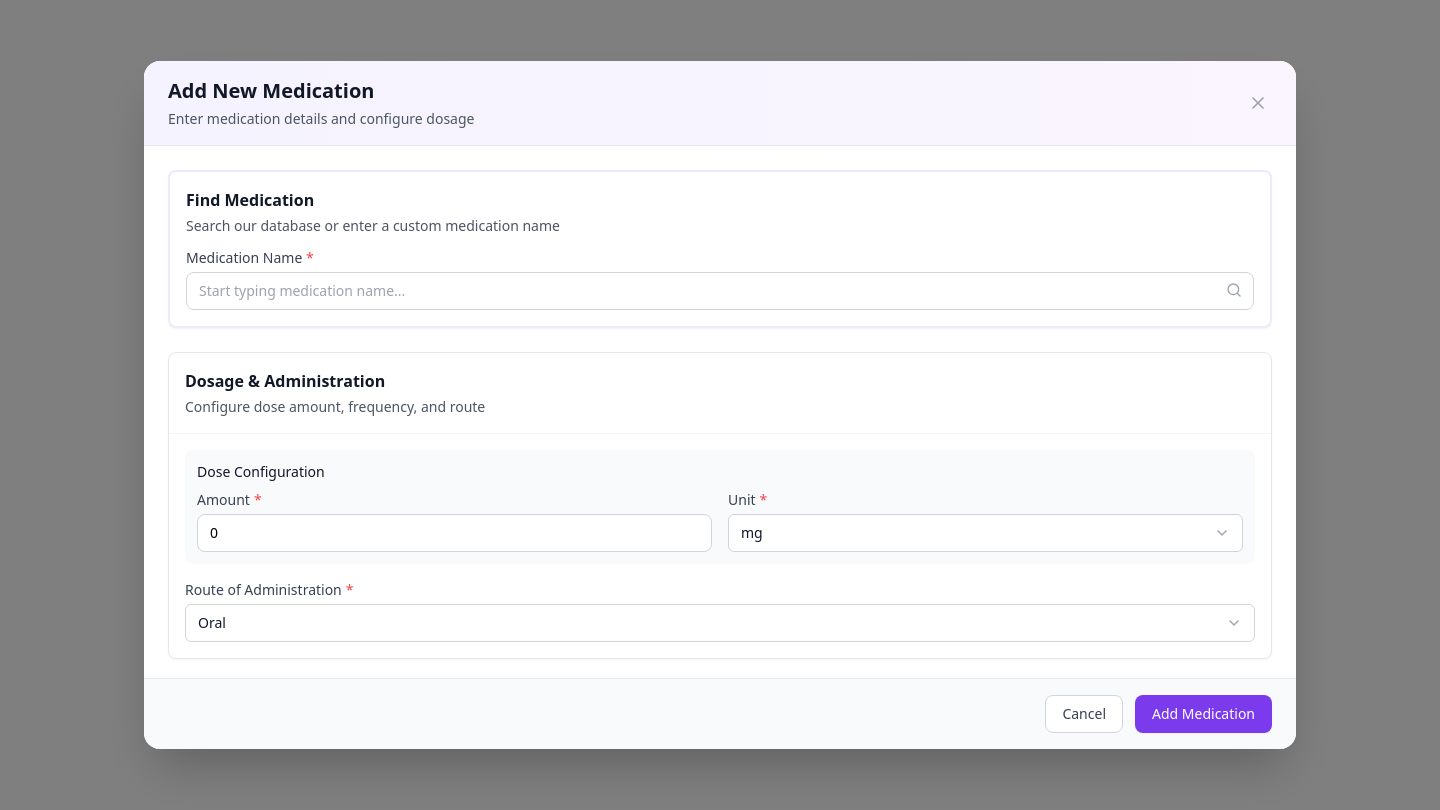
Test case: MedicationForm Validation and Error Handling › Required Field Validation › should show error for empty medication name
This screenshot has width=1440, height=810.
Step 1. Click the button "Add Medication" → [1204, 714], box [1135,695,1272,733]
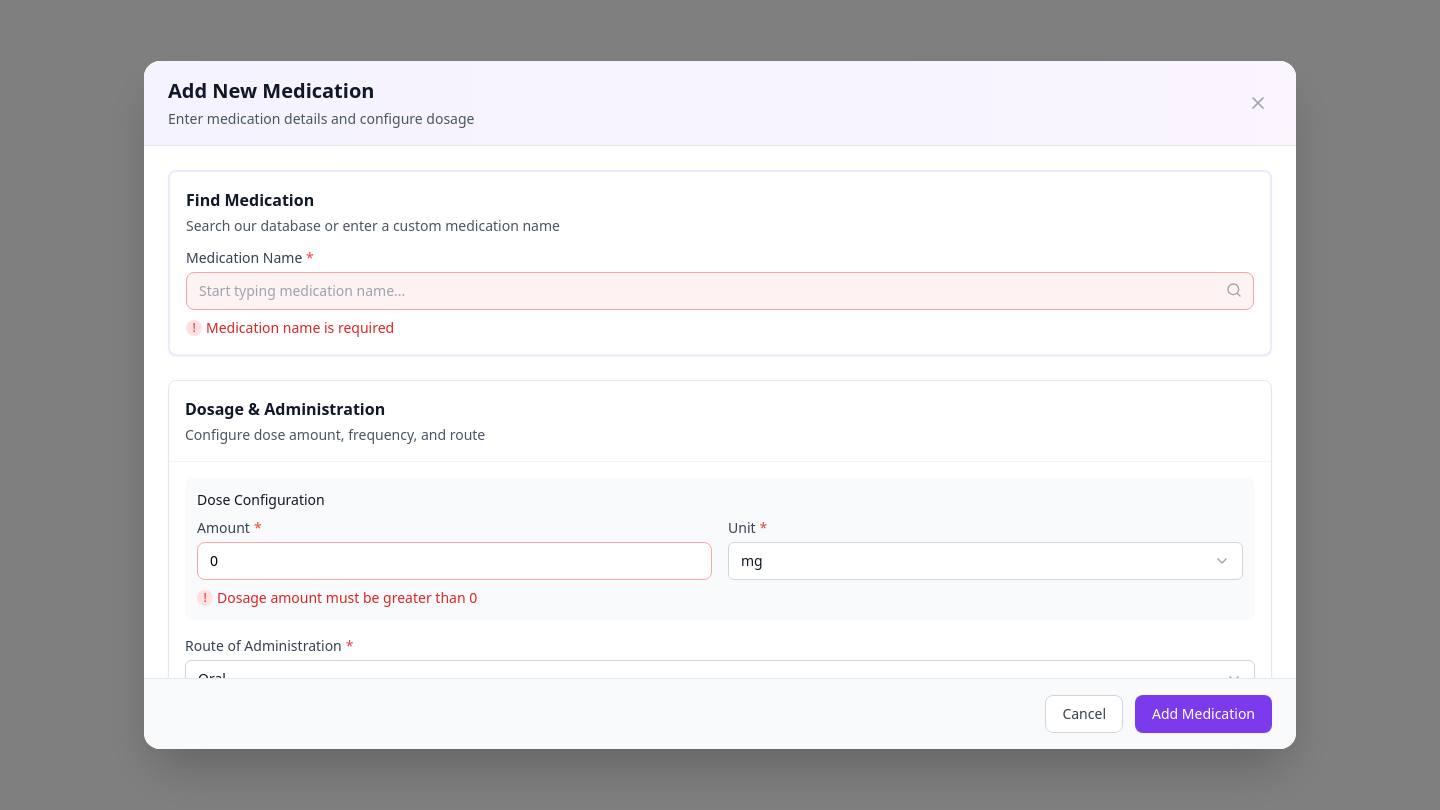
Now the text "Medication name is required" is shown, box [206,318,394,337]
